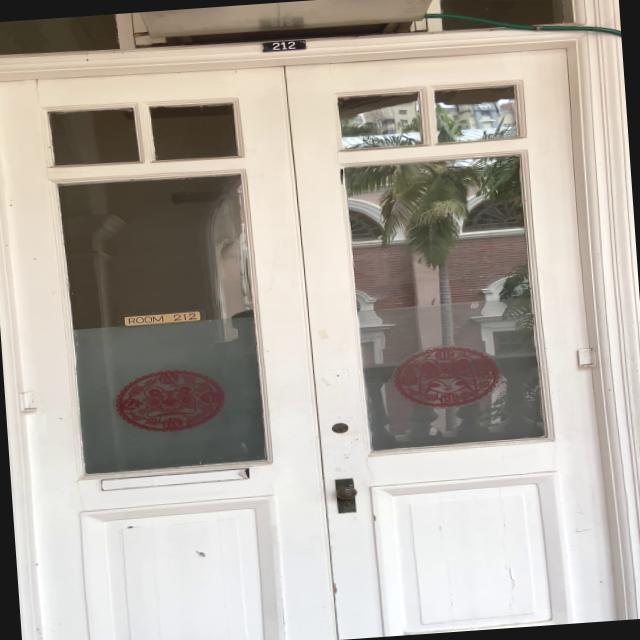room212: (257, 34, 310, 54)
room212Window: (120, 306, 210, 332)
